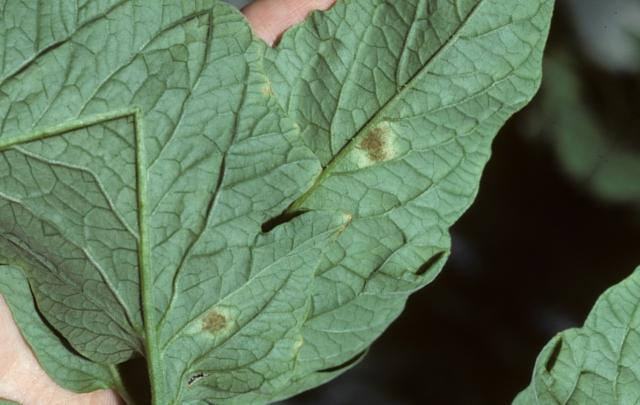Tomato mold leaf: (47, 0, 622, 405), (0, 0, 465, 405)
